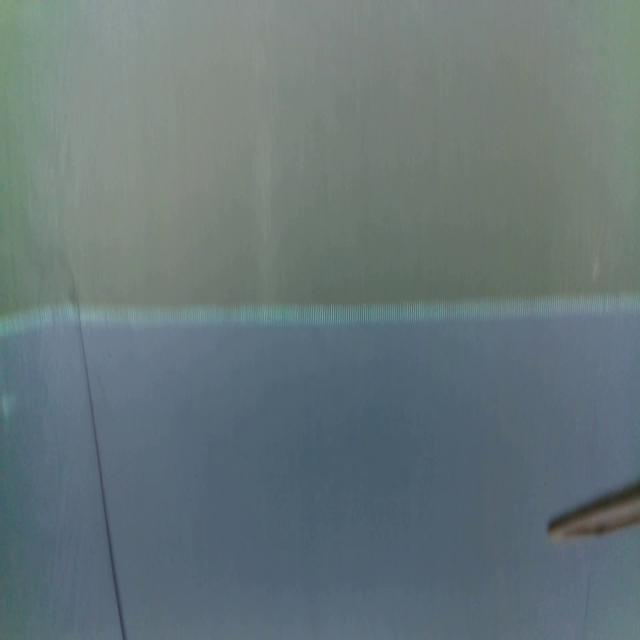crease: (80, 316, 128, 636)
